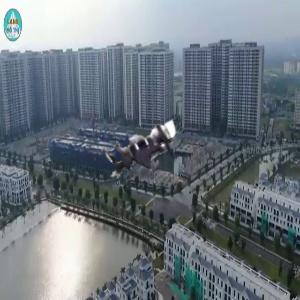drone: (89, 100, 191, 202)
